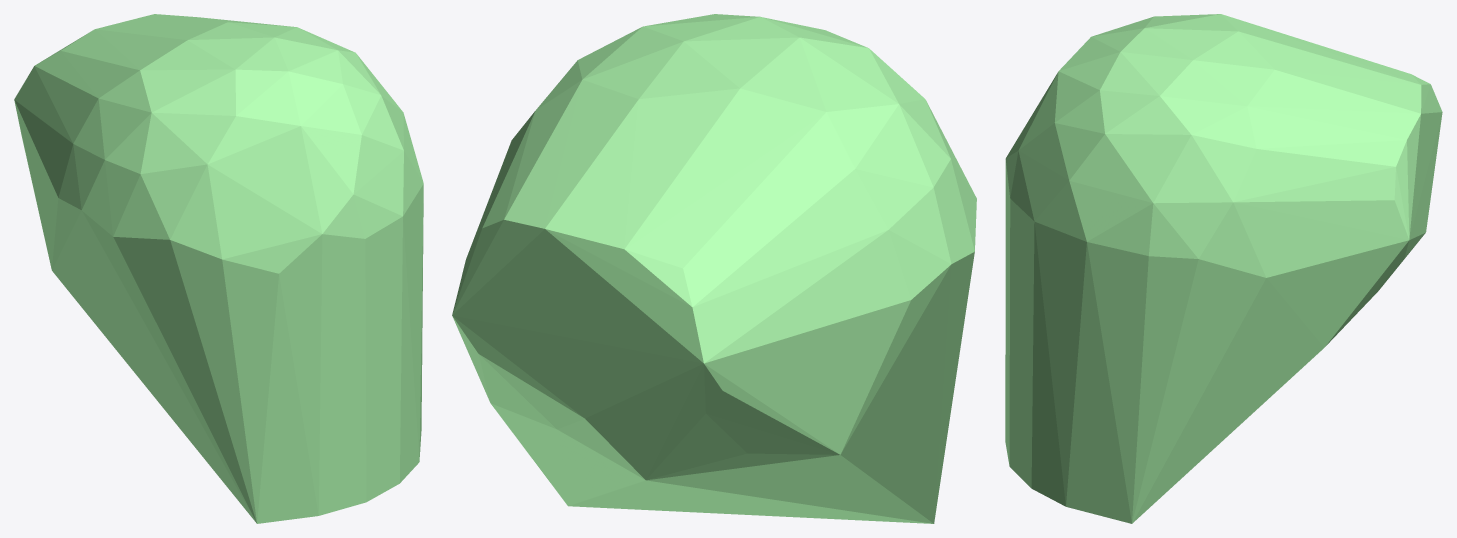
Rendered from exported_panda_link6_resp_coll_5.dae.
The picture shows the model from 3 angles, left to right: view 1: azimuth 30°, elevation 25°; view 2: azimuth 150°, elevation 25°; view 3: azimuth 270°, elevation 25°; orthographic projection. The views are drawn at different scales.
Parts seen in each view (by area): view 1: node; view 2: node; view 3: node.
Boxes of the visible parts, x1,y1,x2,y2 form: node: [14, 14, 423, 523]; node: [452, 14, 976, 523]; node: [1005, 14, 1442, 523].
Size of the model in its own units: 0.0957 by 0.1138 by 0.1109.
